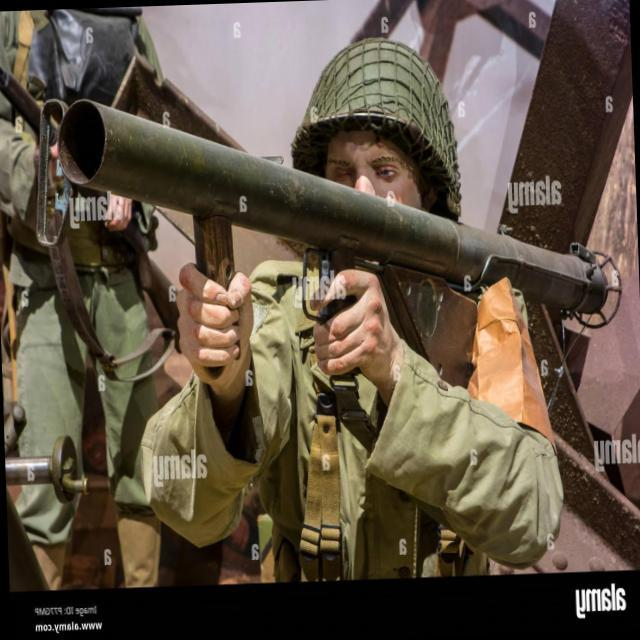rocket: (56, 76, 621, 348)
